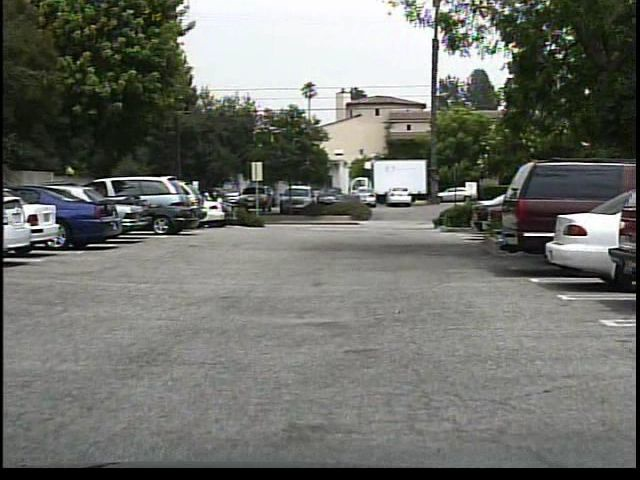person: (215, 192, 230, 222), (210, 191, 222, 220)
